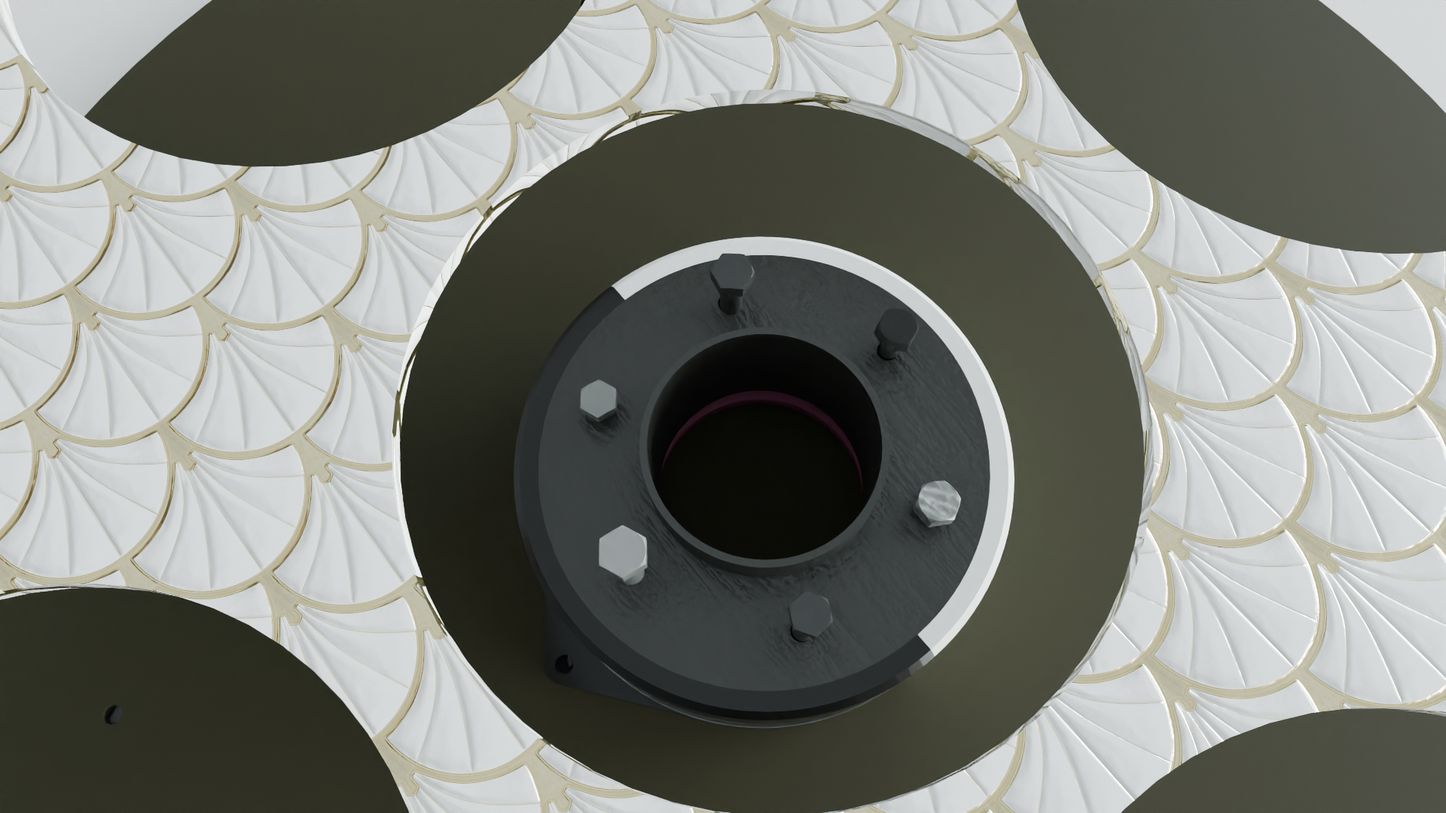bolt: (599, 525, 646, 578), (789, 591, 833, 637), (915, 481, 961, 524), (710, 253, 755, 290), (876, 309, 920, 345), (580, 379, 616, 418)
